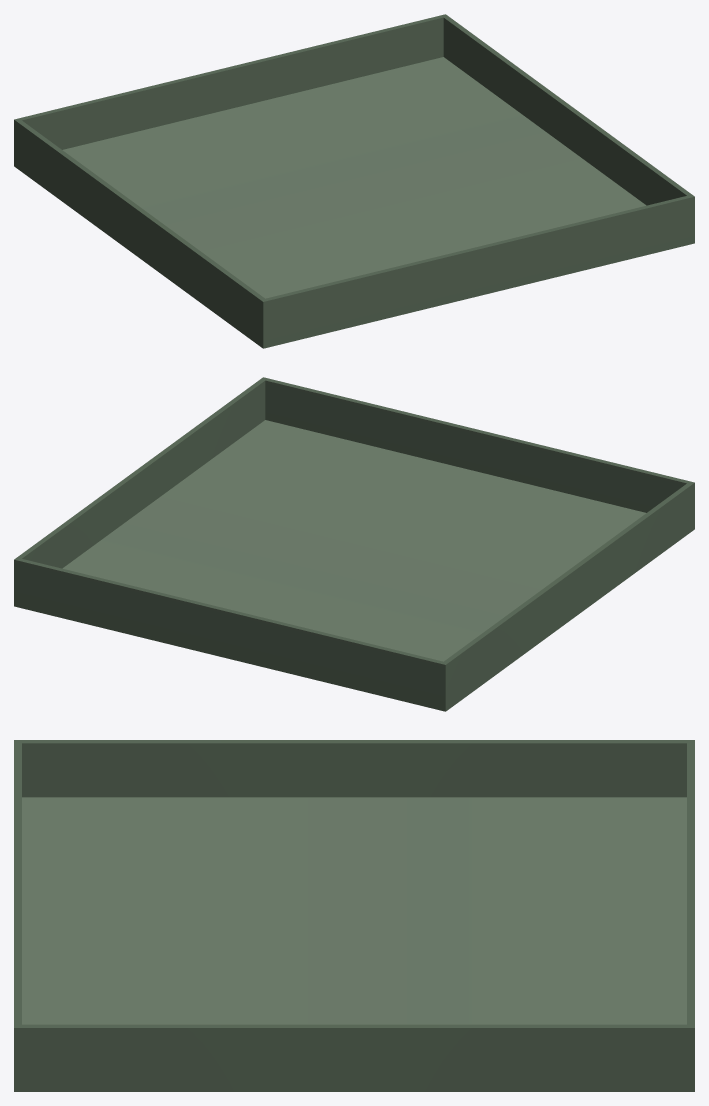
Rendered from pizza-box-opened.glb.
3 renders of one model, top to bottom at view 1: azimuth 30°, elevation 25°; view 2: azimuth 150°, elevation 25°; view 3: azimuth 270°, elevation 25°, orthographic. The views are drawn at different scales.
Visible parts, largest first — view 1: PizzaBoxOpened.001; view 2: PizzaBoxOpened.001; view 3: PizzaBoxOpened.001.
Part boxes in pixels (<box>): PizzaBoxOpened.001: <box>14,14,694,348</box>; PizzaBoxOpened.001: <box>14,377,694,711</box>; PizzaBoxOpened.001: <box>14,740,694,1091</box>.
Bounding box in the file's own units: 0.6141 × 0.0636 × 0.6141.
1 material, 1 textured.
